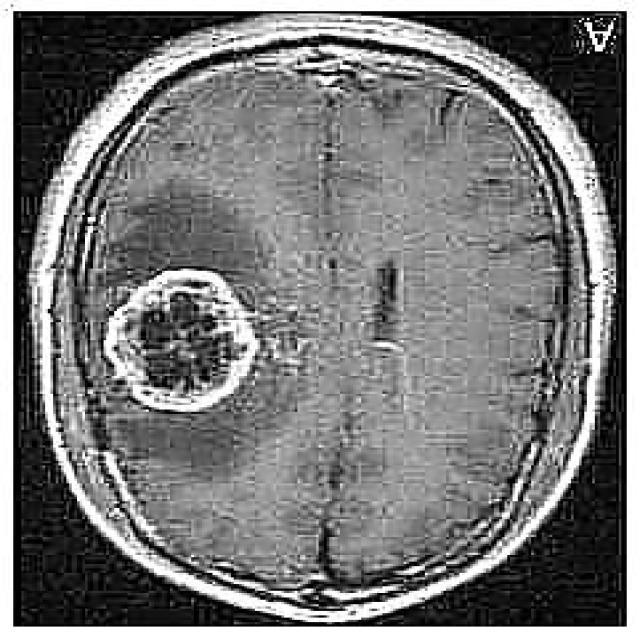Tumor: (103, 268, 257, 408)
